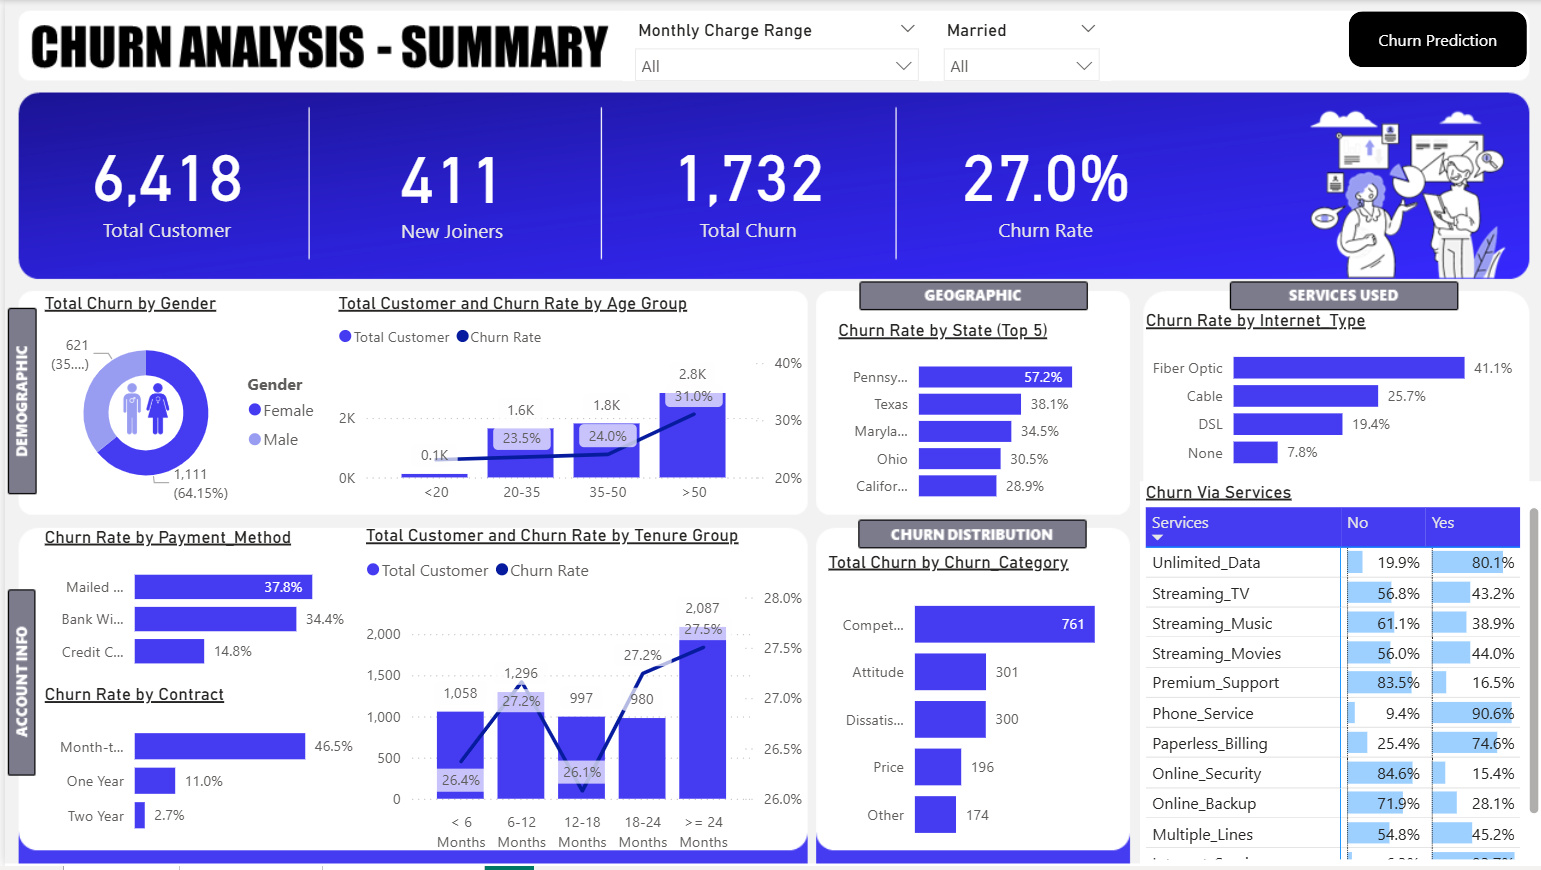

What the dashboard file says about the page in this screenshot:
{"tool":"powerbi","page":{"name":"Summary","canvas":[1280,720],"ordinal":0},"visuals":[{"type":"image","box":[85.1,303.9,64.8,71.6],"z":0},{"type":"card","fields":{"Values":["tbl_Measures.Total Customer"]},"box":[11.7,77.2,246.9,151],"z":1000},{"type":"card","fields":{"Values":["tbl_Measures.New Joiners"]},"box":[248.1,78.4,246.9,151],"z":2000},{"type":"card","fields":{"Values":["tbl_Measures.Total Churn"]},"box":[495,77.2,246.9,151],"z":3000},{"type":"card","fields":{"Values":["tbl_Measures.Churn Rate"]},"box":[741.9,77.2,246.9,151],"z":4000},{"type":"donutChart","fields":{"Category":["prod_Churn.Gender"],"Y":["tbl_Measures.Total Churn"]},"box":[28.1,243.4,244.6,183.7],"z":5000},{"type":"lineStackedColumnComboChart","fields":{"Category":["mapping_AgeGrp.Age Group"],"Y":["tbl_Measures.Total Customer"],"Y2":["tbl_Measures.Churn Rate"]},"box":[272.3,243.2,396,184],"z":6000},{"type":"clusteredBarChart","fields":{"Category":["prod_Churn.Payment_Method"],"Y":["tbl_Measures.Churn Rate"]},"box":[28.1,437.7,266.8,131.1],"z":7000},{"type":"clusteredBarChart","fields":{"Category":["prod_Churn.Contract"],"Y":["tbl_Measures.Churn Rate"]},"box":[28.1,568.7,266.8,138.1],"z":8000},{"type":"lineStackedColumnComboChart","fields":{"Category":["mapping_TenureGrp.Tenure Group"],"Y":["tbl_Measures.Total Customer"],"Y2":["tbl_Measures.Churn Rate"]},"box":[295.2,436.5,373.1,278.5],"z":9000},{"type":"clusteredBarChart","title":"Churn Rate by State (Top 5)","fields":{"Category":["prod_Churn.State"],"Y":["tbl_Measures.Churn Rate"]},"box":[688.1,265.6,237.6,161.5],"z":10000},{"type":"clusteredBarChart","fields":{"Category":["prod_Churn.Churn_Category"],"Y":["tbl_Measures.Total Churn"]},"box":[679.9,458.7,256.3,256.3],"z":11000},{"type":"clusteredBarChart","fields":{"Category":["prod_Churn.Internet_Type"],"Y":["tbl_Measures.Churn Rate"]},"box":[943.2,257.5,321.8,142.8],"z":12000},{"type":"pivotTable","title":"Churn Via Services","fields":{"Rows":["prod_Services.Services"],"Columns":["prod_Services.Status"],"Values":["Sum(prod_Services.Churn Status)"]},"box":[943.2,400.2,337,319.5],"z":13000},{"type":"slicer","fields":{"Values":["prod_Churn.Monthly Charge Status"]},"box":[513.7,11.7,256.3,56.2],"z":14000},{"type":"slicer","fields":{"Values":["prod_Churn.Married"]},"box":[770,11.7,149.8,56.2],"z":15000},{"type":"shape","box":[1117,9.6,148.2,46.7],"z":15001}]}

Visuals, with their boxes in screenshot pixels (x1, y1, x2, y2), scaled from the page's 1280x720 canvas onto the 1541x870 screenshot:
image: detection(102, 367, 180, 454)
card - tbl_Measures.Total Customer: detection(14, 93, 311, 276)
card - tbl_Measures.New Joiners: detection(299, 95, 596, 277)
card - tbl_Measures.Total Churn: detection(596, 93, 893, 276)
card - tbl_Measures.Churn Rate: detection(893, 93, 1190, 276)
donutChart - prod_Churn.Gender x tbl_Measures.Total Churn: detection(34, 294, 328, 516)
lineStackedColumnComboChart - mapping_AgeGrp.Age Group x tbl_Measures.Total Customer: detection(328, 294, 805, 516)
clusteredBarChart - prod_Churn.Payment_Method x tbl_Measures.Churn Rate: detection(34, 529, 355, 687)
clusteredBarChart - prod_Churn.Contract x tbl_Measures.Churn Rate: detection(34, 687, 355, 854)
lineStackedColumnComboChart - mapping_TenureGrp.Tenure Group x tbl_Measures.Total Customer: detection(355, 527, 805, 864)
"Churn Rate by State (Top 5)" clusteredBarChart: detection(828, 321, 1114, 516)
clusteredBarChart - prod_Churn.Churn_Category x tbl_Measures.Total Churn: detection(819, 554, 1127, 864)
clusteredBarChart - prod_Churn.Internet_Type x tbl_Measures.Churn Rate: detection(1136, 311, 1523, 484)
"Churn Via Services" pivotTable: detection(1136, 484, 1540, 869)
slicer - prod_Churn.Monthly Charge Status: detection(618, 14, 927, 82)
slicer - prod_Churn.Married: detection(927, 14, 1107, 82)
shape: detection(1345, 12, 1523, 68)
